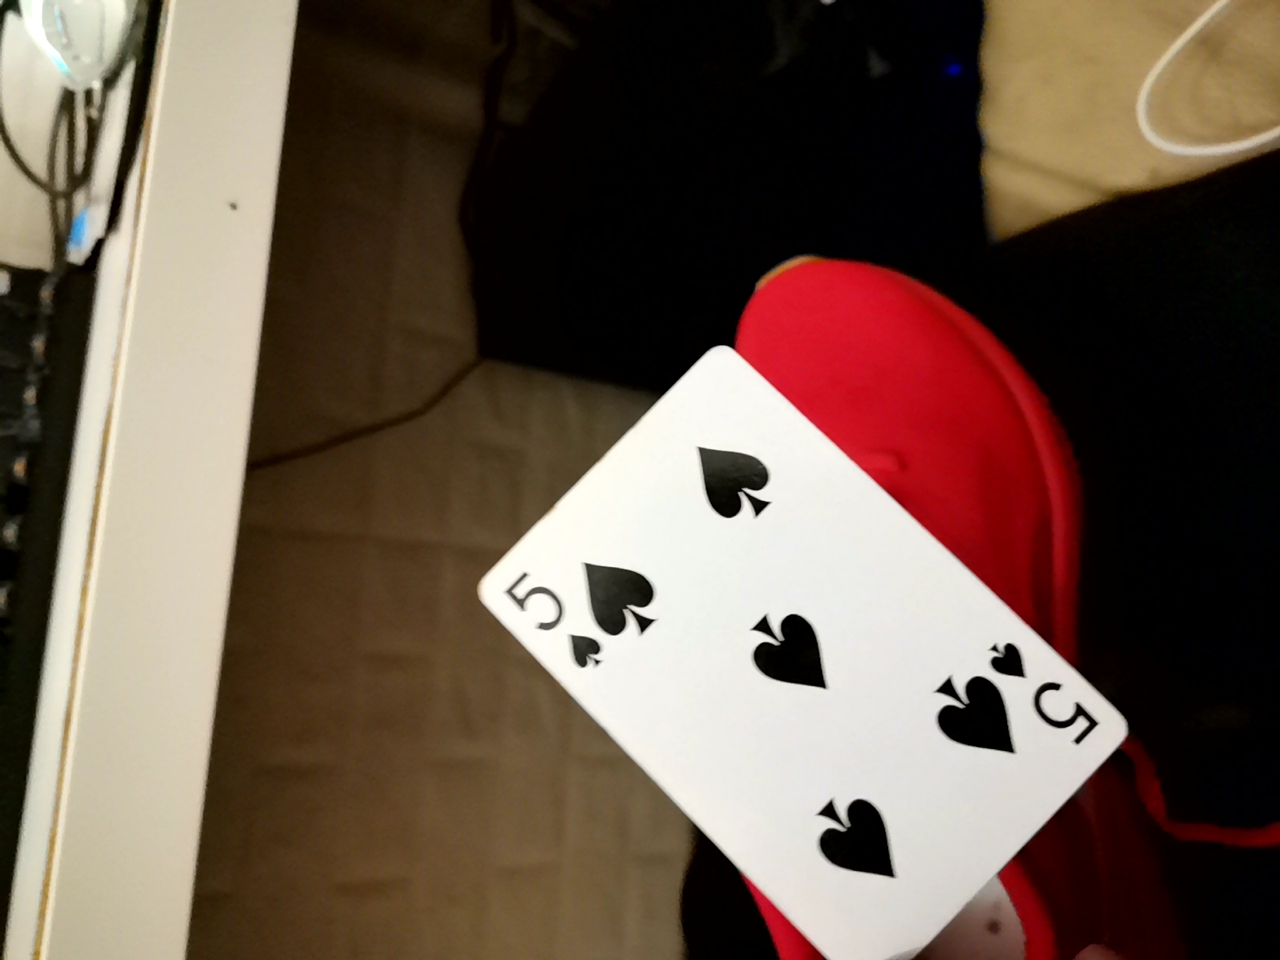ht 5: (453, 337, 1113, 960)
